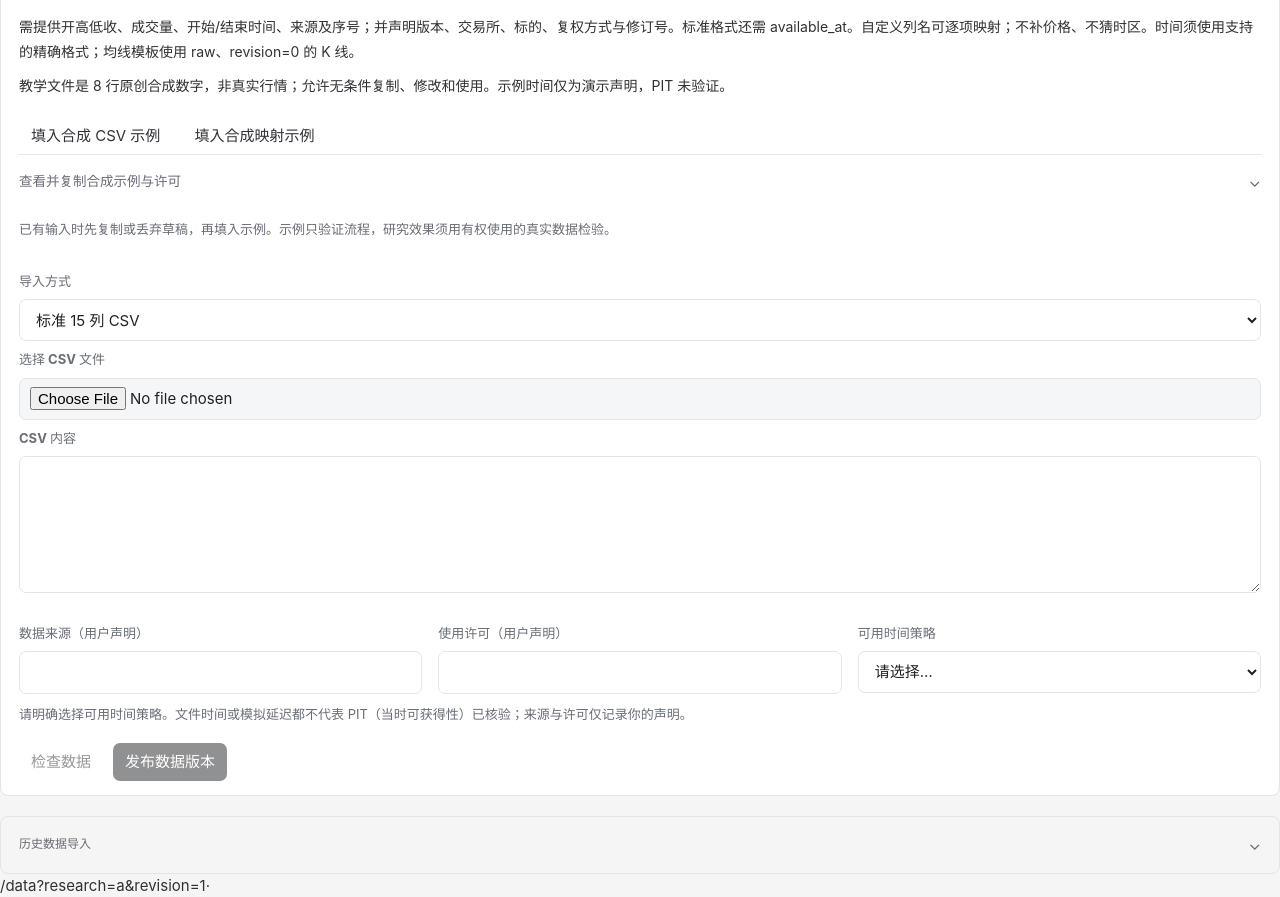
Test: CSV without a retained buffer uses the same in-app guard and publishes nothing
The width and height of the screenshot is (1280, 897).
(page scrolled)
Type "retained csv bytes" into the text box labelled "CSV 内容".
click(640, 524); type("retained csv bytes")  # box [19, 456, 1261, 593]
(page scrolled)
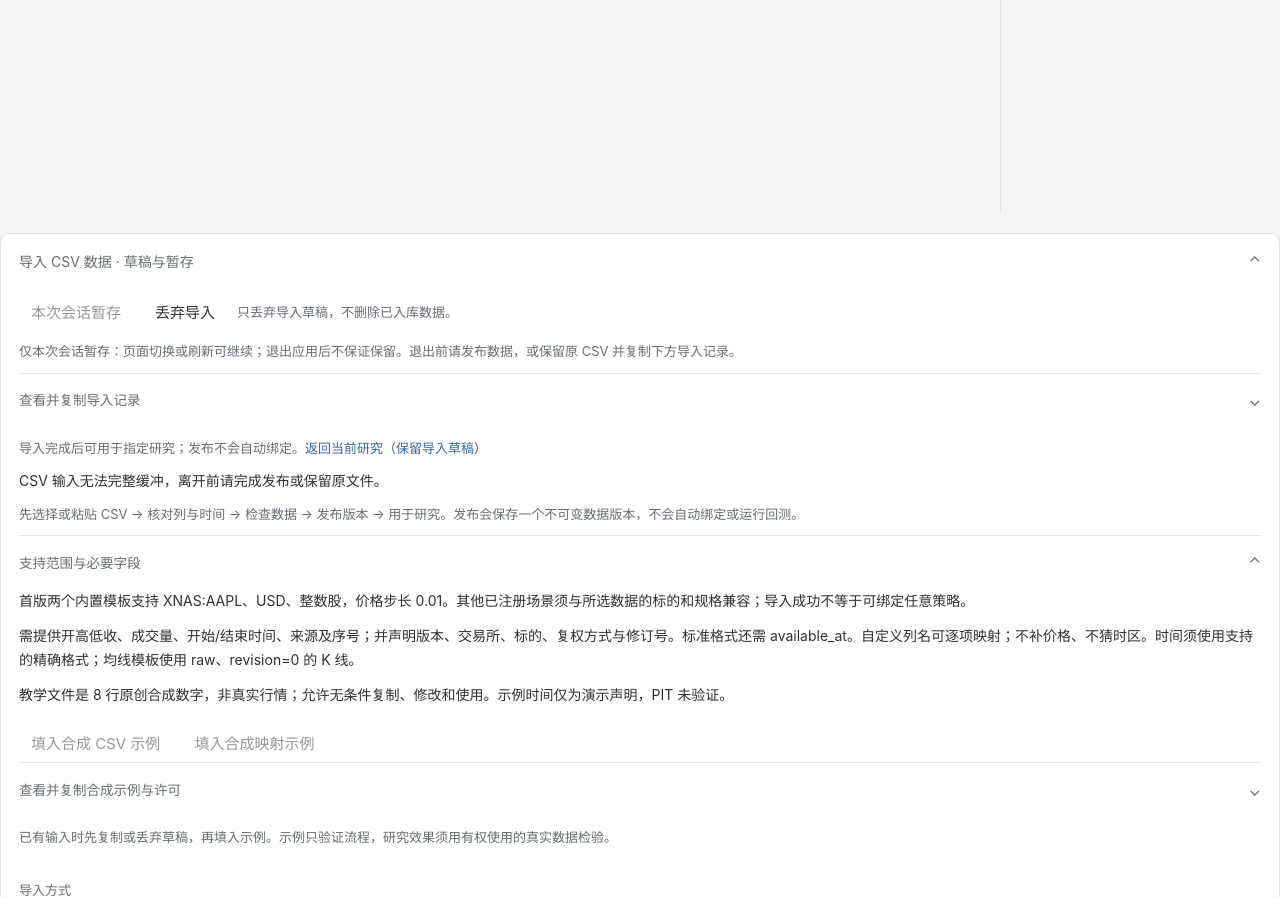
Result: the text "CSV 输入无法完整缓冲，离开前请完成发布或保留原文件。" is shown at [19, 472, 388, 489]
Click the link "返回当前研究（保留导入草稿）".
click(396, 448)  # box [305, 440, 487, 456]
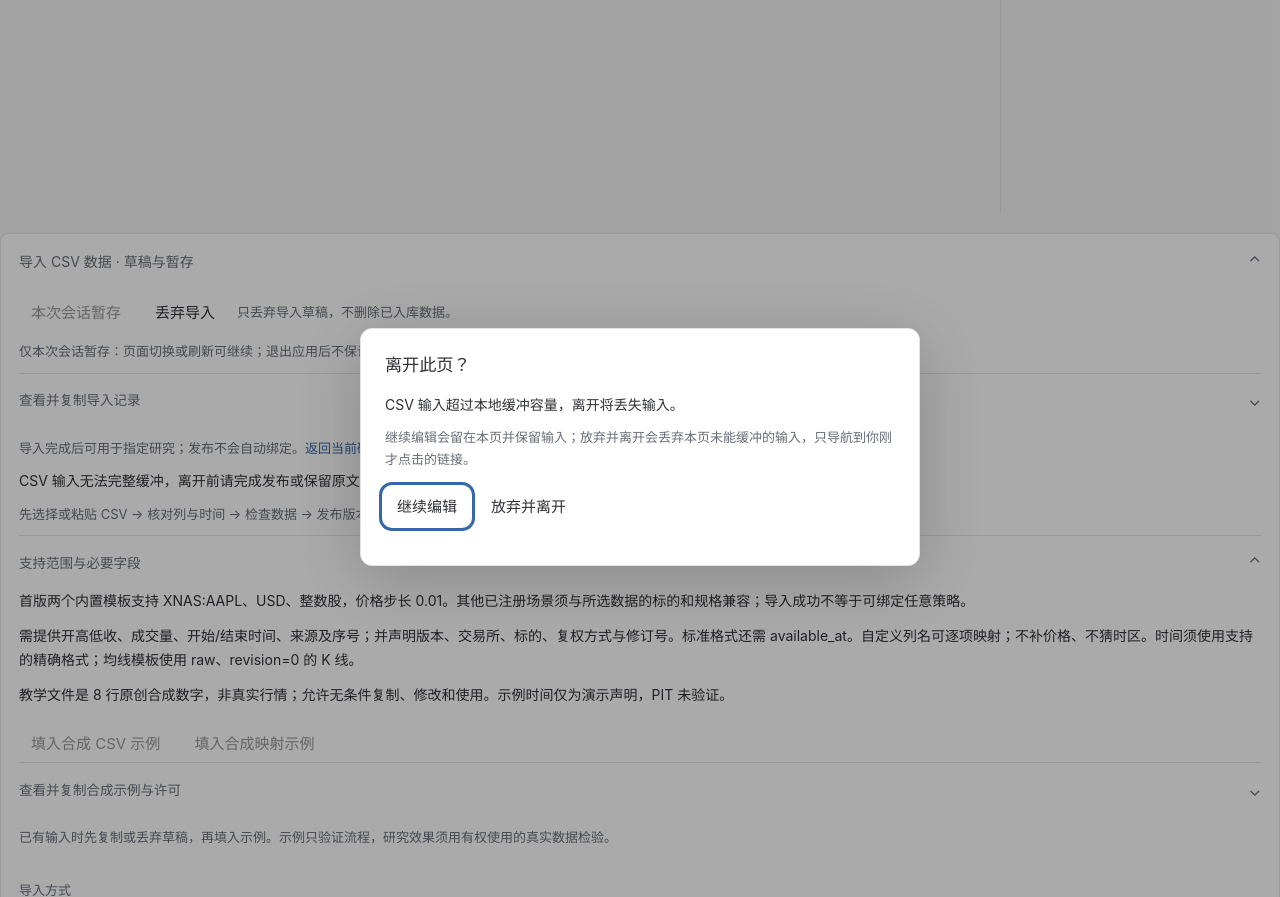
Result: the dialog "离开此页？" shows "CSV 输入" at [385, 396, 684, 413]
Click the button "放弃并离开".
click(528, 507)  # box [479, 488, 578, 525]
(page scrolled)
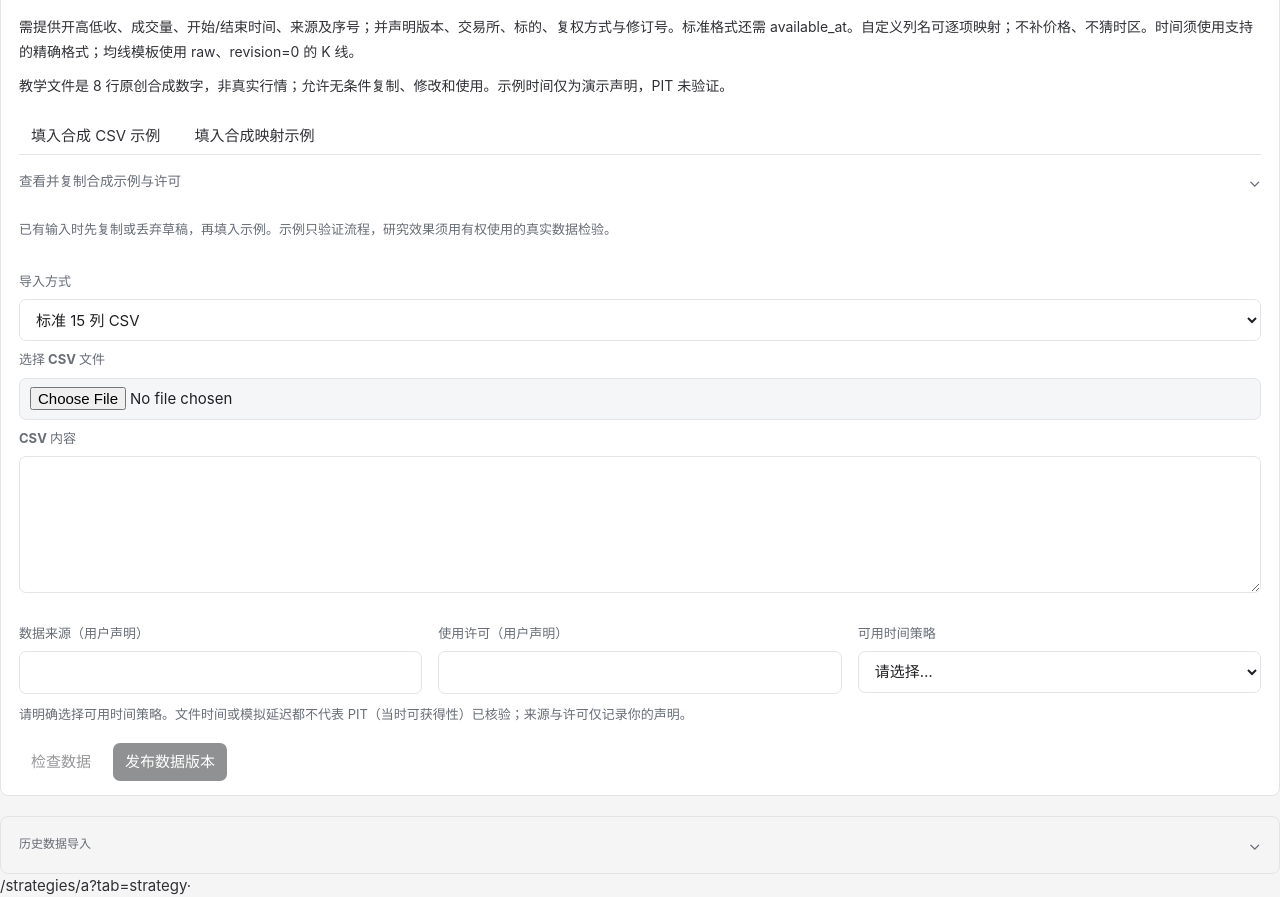
Result: the text named "location" shows "/strategies/a?tab=strategy" at [0, 876, 191, 895]
